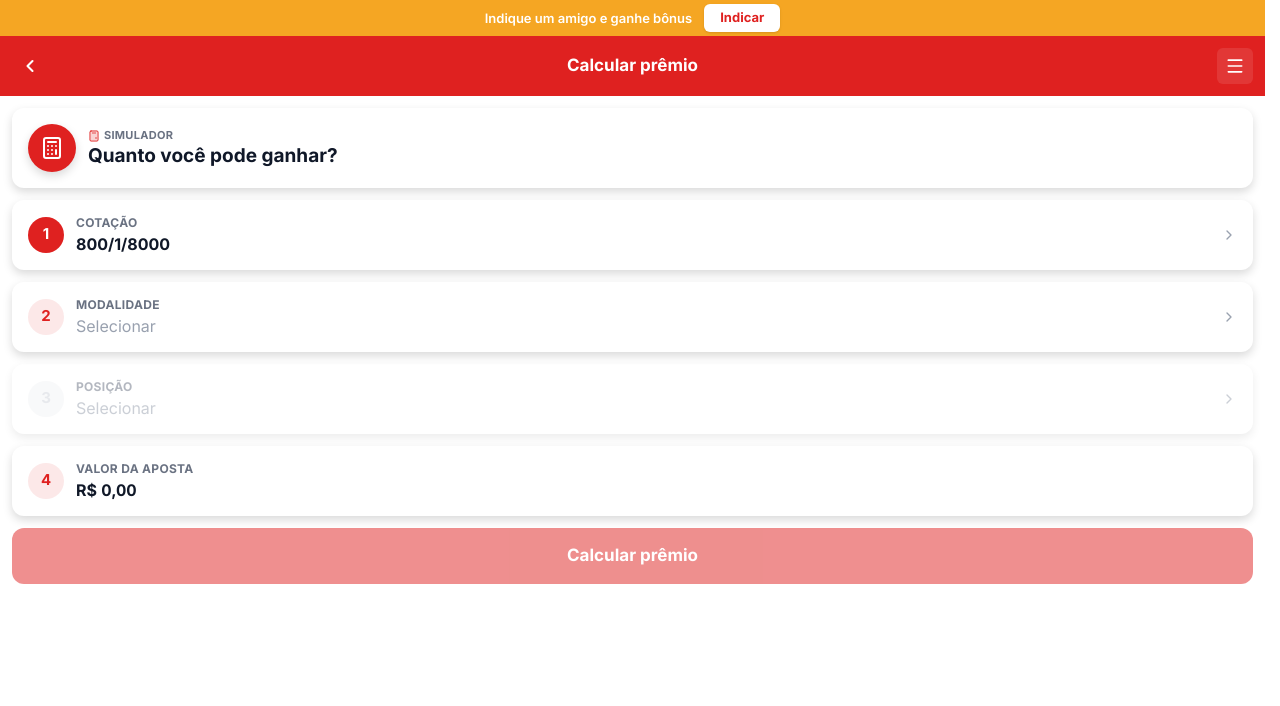
Test: Calcular prêmio › listas com "Escolha a …" e X para fechar sem escolher
Click the button "2 Modalidade Selecionar": (46,316) left=12, top=282, right=1253, bottom=352
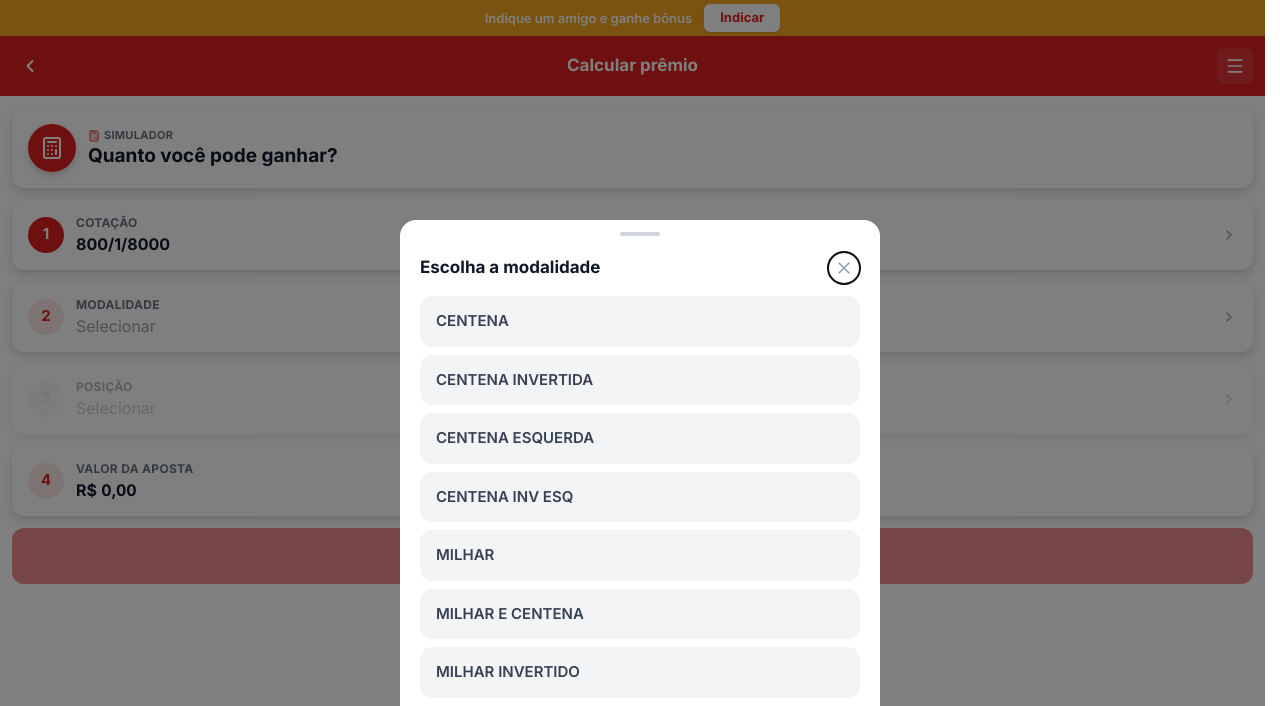
Click the button named "Fechar": (844,268) left=828, top=252, right=860, bottom=284
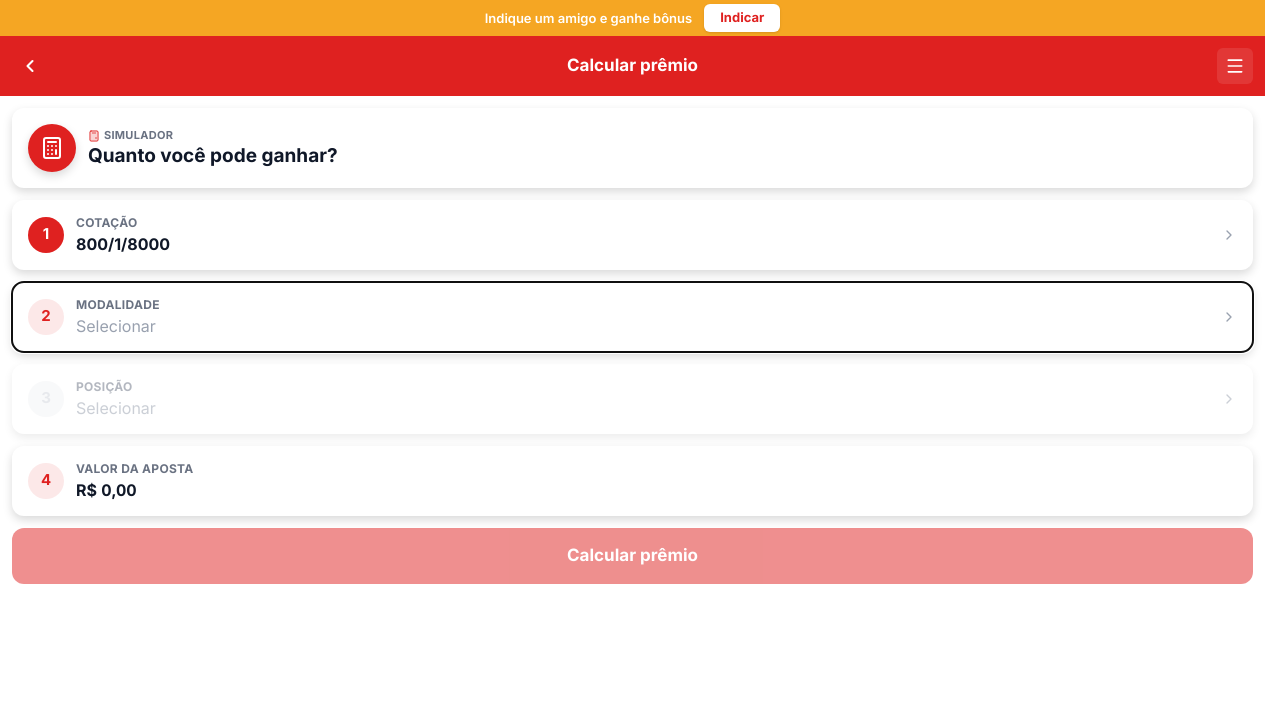
Expected: the button with aria-label "Modalidade: Selecionar" is shown, left=12, top=282, right=1253, bottom=352
Expected: the heading "Escolha a modalidade" is gone
